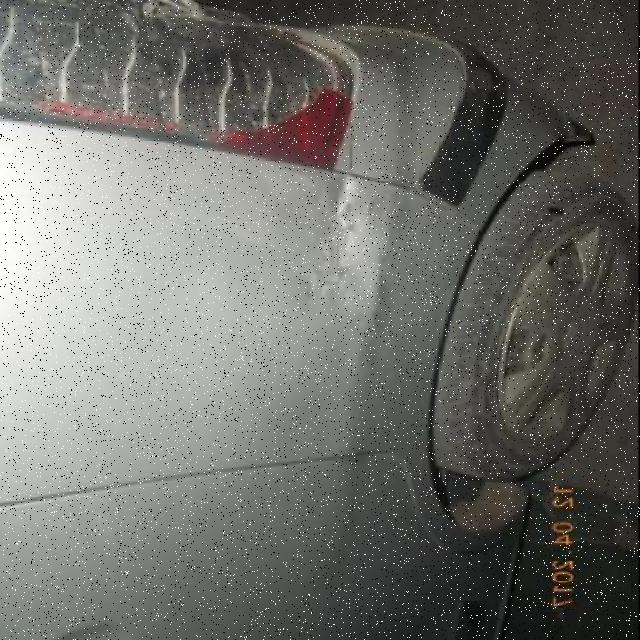damage: (1, 4, 355, 170), (292, 180, 386, 309)
